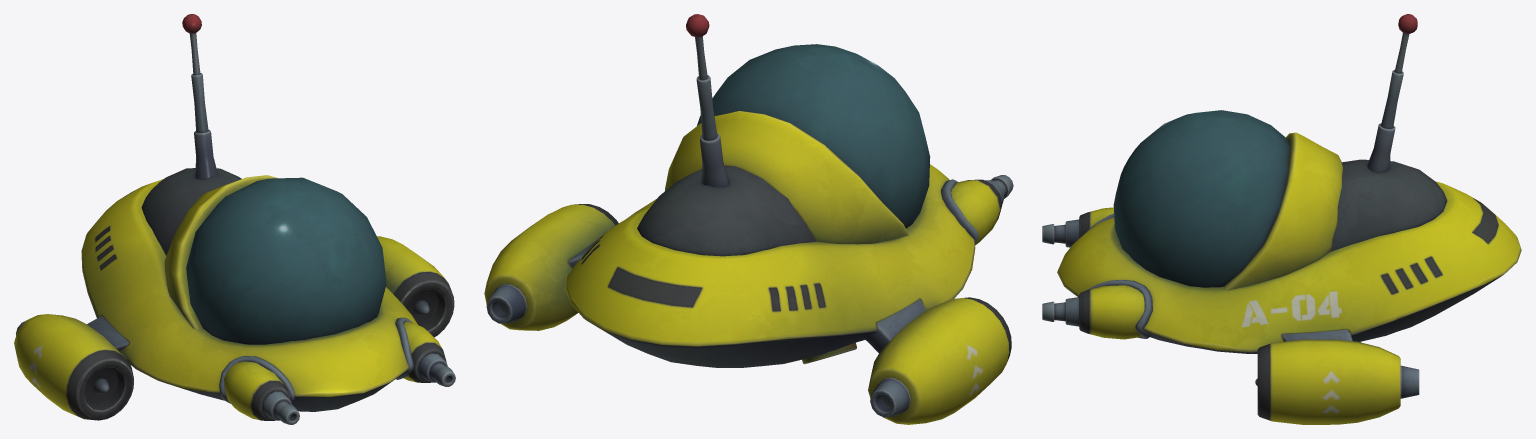
Rendered from Spaceship_Hero_A04.fbx.
3 views of the same model, side by side, from view 1: azimuth 30°, elevation 25°; view 2: azimuth 150°, elevation 25°; view 3: azimuth 270°, elevation 25° (orthographic). The views are drawn at different scales.
Parts seen in each view (by area): view 1: Spaceship_Hero_A04; view 2: Spaceship_Hero_A04; view 3: Spaceship_Hero_A04.
Part boxes in pixels (left/top/right/bottom): Spaceship_Hero_A04: left=14, top=14, right=455, bottom=424; Spaceship_Hero_A04: left=484, top=14, right=1013, bottom=424; Spaceship_Hero_A04: left=1042, top=14, right=1521, bottom=424.
Bounding box in the file's own units: 6.07 × 4.72 × 6.28.
